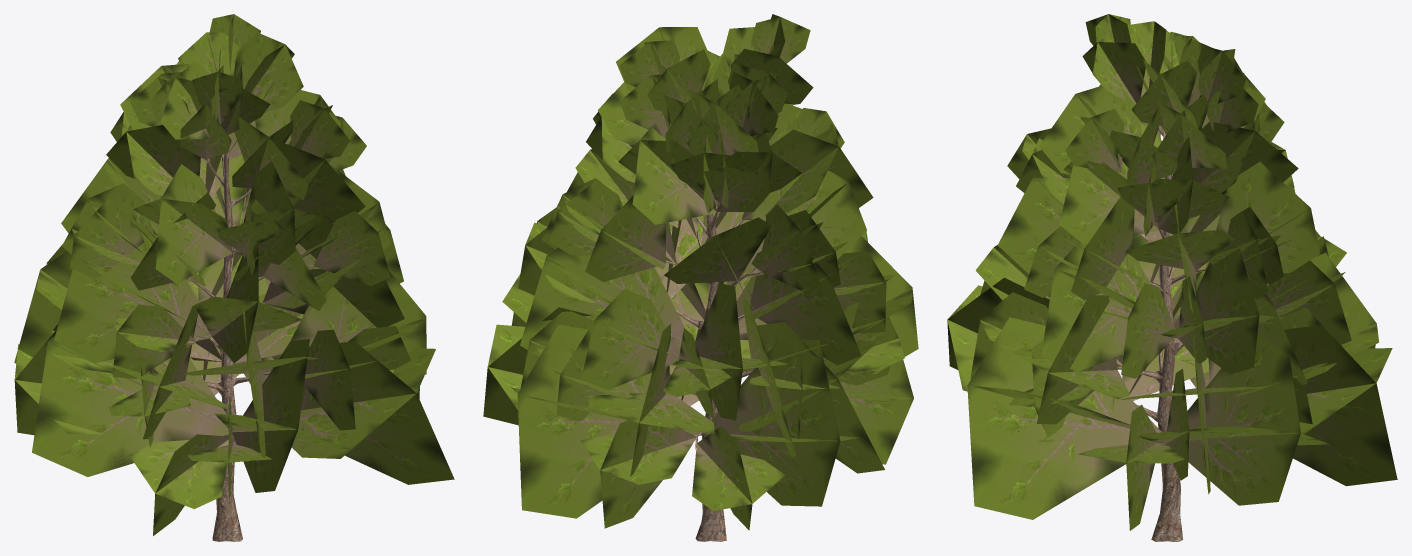
The model's file is oak2_LOD2.obj.
3 views of the same model, side by side, from view 1: azimuth 30°, elevation 25°; view 2: azimuth 150°, elevation 25°; view 3: azimuth 270°, elevation 25° (orthographic). The views are drawn at different scales.
Visible parts, largest first — view 1: maple branch imposter, bark02; view 2: maple branch imposter, bark02; view 3: maple branch imposter, bark02.
Part boxes in pixels (<box>): maple branch imposter: <box>14,14,454,535</box>; bark02: <box>185,125,313,541</box>; maple branch imposter: <box>483,14,918,530</box>; bark02: <box>666,202,763,541</box>; maple branch imposter: <box>947,14,1397,530</box>; bark02: <box>1117,128,1206,541</box>.
Bounding box in the file's own units: 669 × 869 × 704.
2 materials, 2 textured.
